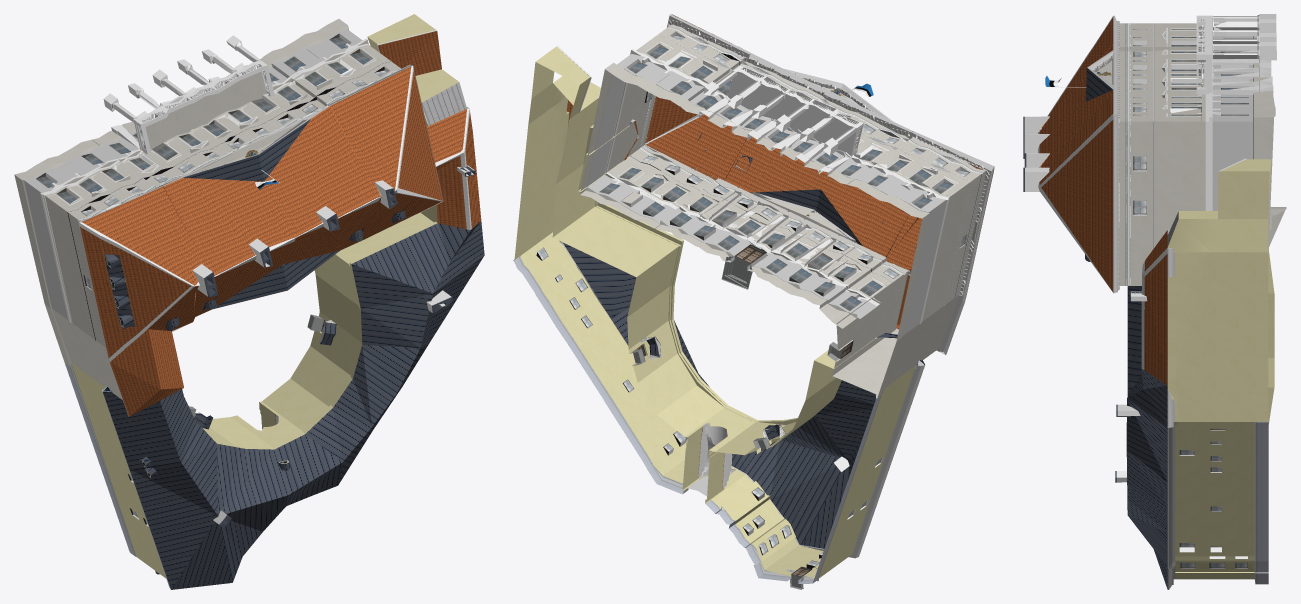
File: Rahukohtu_3-origo.obj
3 renders of one model, left to right at view 1: azimuth 30°, elevation 25°; view 2: azimuth 150°, elevation 25°; view 3: azimuth 270°, elevation 25°, orthographic. The views are drawn at different scales.
Visible parts, largest first — view 1: Rahukohtu_3; view 2: Rahukohtu_3; view 3: Rahukohtu_3.
Boxes of the visible parts, x1,y1,x2,y2 form: Rahukohtu_3: (14,14,484,589); Rahukohtu_3: (513,14,994,589); Rahukohtu_3: (1023,14,1286,589).
Bounding box in the file's own units: 56.56 × 63.5 × 26.56.
